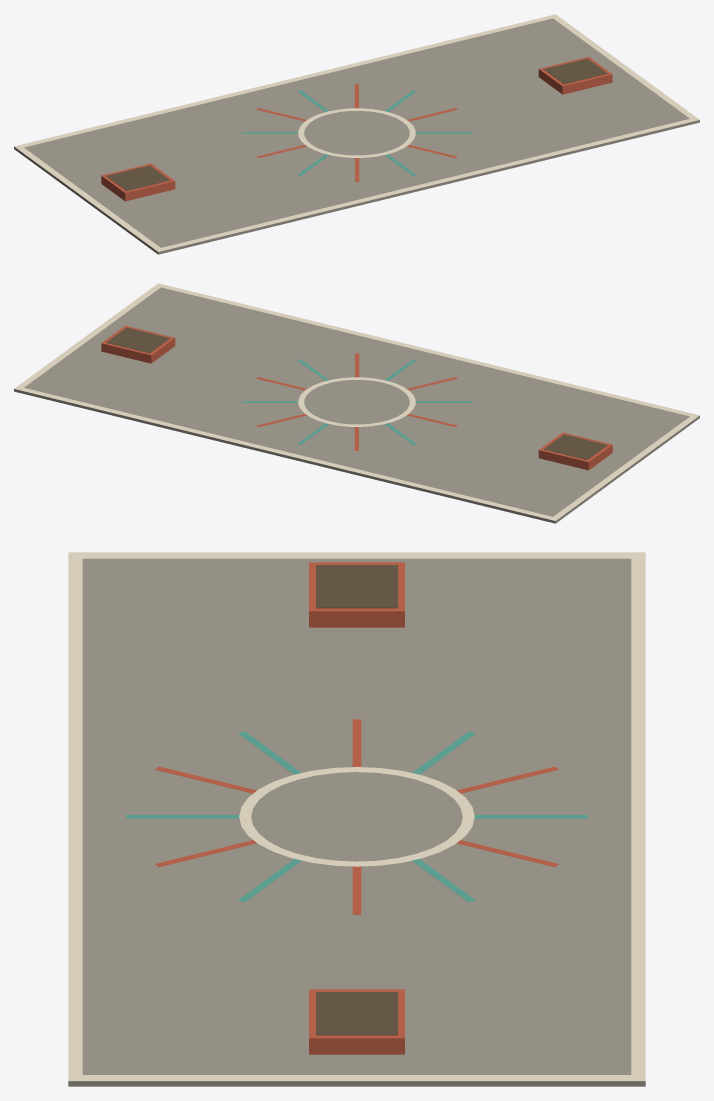
Rendered from oc_plaza_01.glb.
3 views of the same model, one above another, from view 1: azimuth 30°, elevation 25°; view 2: azimuth 150°, elevation 25°; view 3: azimuth 270°, elevation 25° (orthographic). The views are drawn at different scales.
Parts seen in each view (by area): view 1: LOD1_OC_Concrete, LOD1_OC_Stucco_Ivory, LOD1_OC_Coral, LOD1_OC_Painted_Wood, LOD1_OC_Deco_Mint; view 2: LOD1_OC_Concrete, LOD1_OC_Stucco_Ivory, LOD1_OC_Coral, LOD1_OC_Painted_Wood, LOD1_OC_Deco_Mint; view 3: LOD1_OC_Concrete, LOD1_OC_Stucco_Ivory, LOD1_OC_Coral, LOD1_OC_Painted_Wood, LOD1_OC_Deco_Mint.
Part boxes in pixels (<box>): LOD1_OC_Concrete: <box>14,18,699,254</box>; LOD1_OC_Stucco_Ivory: <box>14,14,699,251</box>; LOD1_OC_Coral: <box>101,56,612,201</box>; LOD1_OC_Painted_Wood: <box>106,58,607,190</box>; LOD1_OC_Deco_Mint: <box>241,90,472,175</box>; LOD1_OC_Concrete: <box>14,287,699,523</box>; LOD1_OC_Stucco_Ivory: <box>14,283,699,520</box>; LOD1_OC_Coral: <box>101,325,612,470</box>; LOD1_OC_Painted_Wood: <box>106,327,607,459</box>; LOD1_OC_Deco_Mint: <box>241,359,472,444</box>; LOD1_OC_Concrete: <box>68,558,645,1086</box>; LOD1_OC_Stucco_Ivory: <box>68,552,645,1081</box>; LOD1_OC_Coral: <box>155,562,558,1054</box>; LOD1_OC_Painted_Wood: <box>316,565,397,1035</box>; LOD1_OC_Deco_Mint: <box>126,731,587,902</box>.
Bounding box in the file's own units: 26 × 0.5099 × 12.
